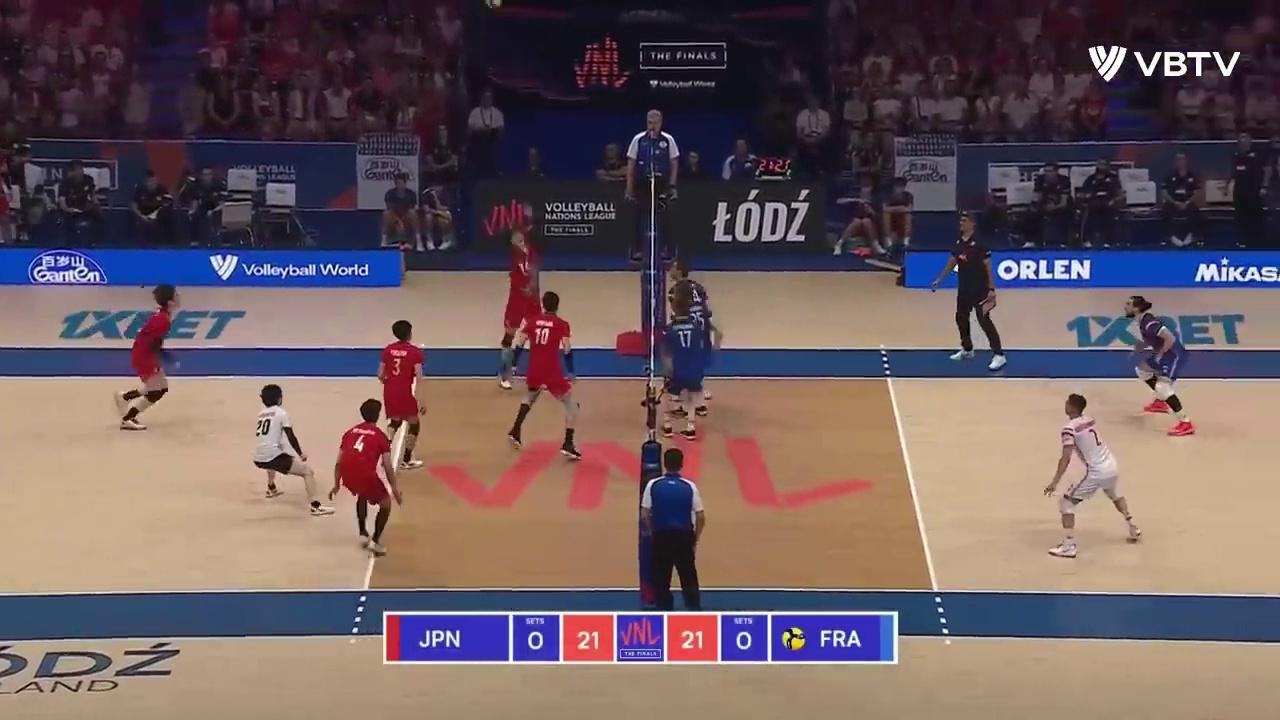ball: (487, 1, 502, 10)
